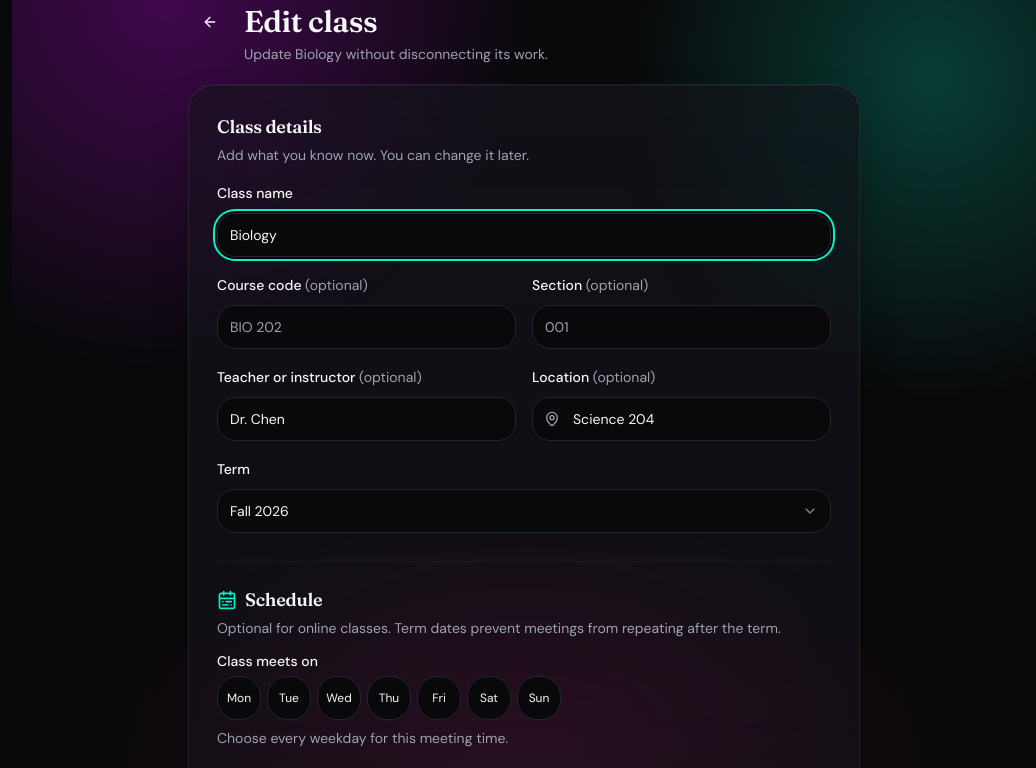
Scenario: ClassEditorPage identity and navigation › renames by database uuid while preserving the existing route identity
Replace the text in the field labelled "Class name" with "General Biology" at (524, 235), box [217,213,831,257]
(page scrolled)
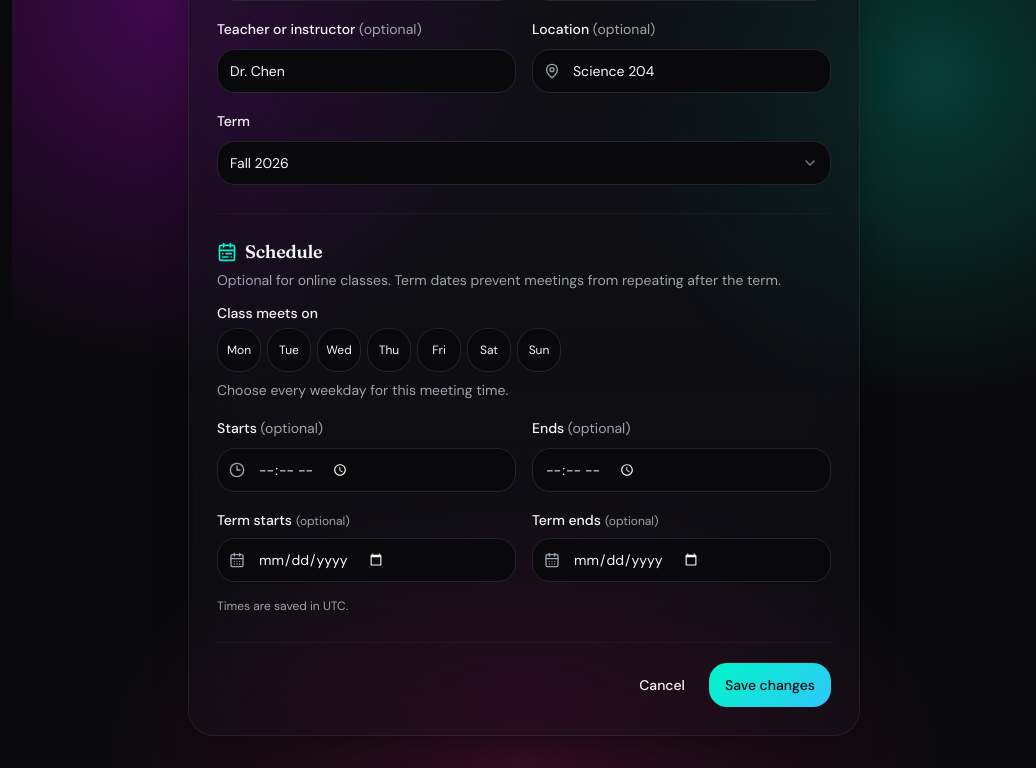
Click the button "Save changes" at (770, 685), box [709,663,831,707]
(page scrolled)
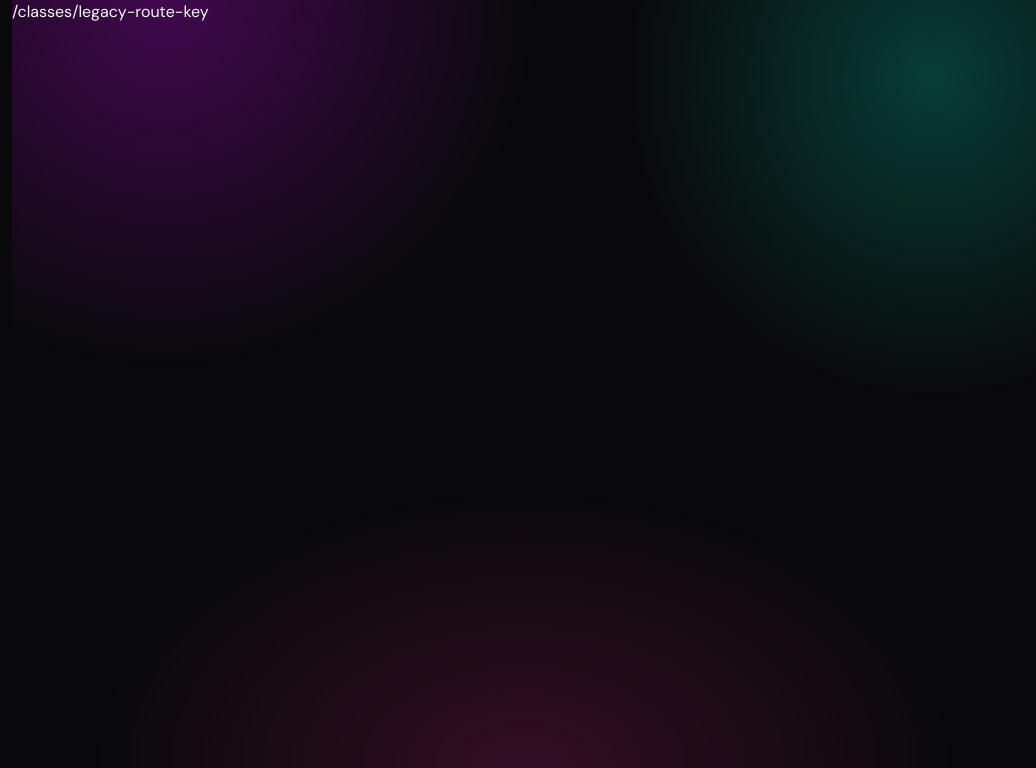
Expected: the text with test id "location" reads "/classes/legacy-route-key", [12,1,209,22]
